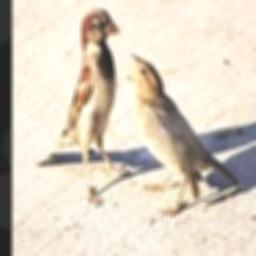Sparrow: (126, 52, 241, 216), (40, 7, 128, 206)
